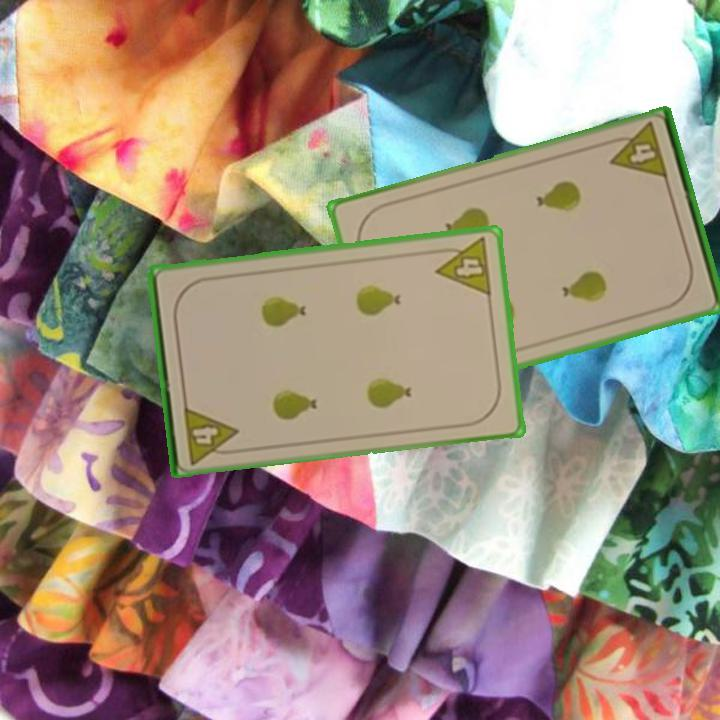4p: (602, 119, 671, 183), (430, 234, 495, 299), (180, 402, 242, 467)
